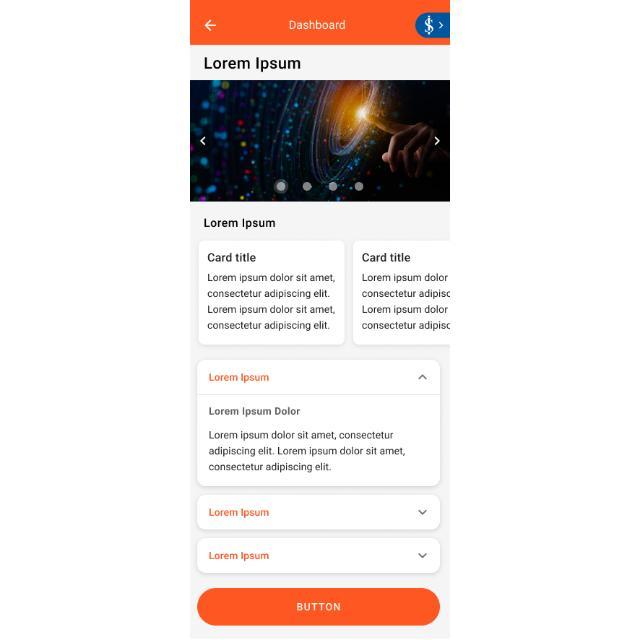QLabel: (208, 428, 406, 476), (205, 270, 338, 336), (362, 272, 451, 332), (202, 54, 302, 76), (208, 403, 302, 417), (202, 216, 276, 230), (206, 548, 272, 562), (286, 18, 350, 32), (204, 250, 258, 266), (206, 506, 272, 518), (208, 371, 272, 383), (361, 250, 411, 264), (296, 600, 342, 612)
VAppBar: (190, 1, 450, 44)
VBtn: (198, 588, 440, 626)
VCard: (199, 240, 345, 346), (354, 241, 450, 345)
VExpansionPanel: (196, 359, 440, 487), (196, 493, 440, 531), (196, 539, 440, 573)
VIcon: (203, 16, 219, 34)
VImg: (414, 10, 451, 40)
VStepper: (190, 79, 450, 201)
